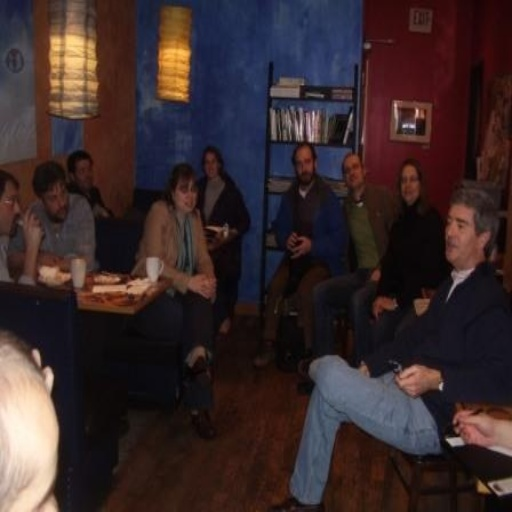hand: (452, 408, 494, 448), (394, 361, 434, 399), (20, 204, 45, 252), (188, 271, 212, 300), (370, 294, 394, 321), (290, 231, 309, 262), (284, 231, 300, 254), (206, 272, 216, 300), (368, 265, 380, 284), (358, 361, 370, 377)
